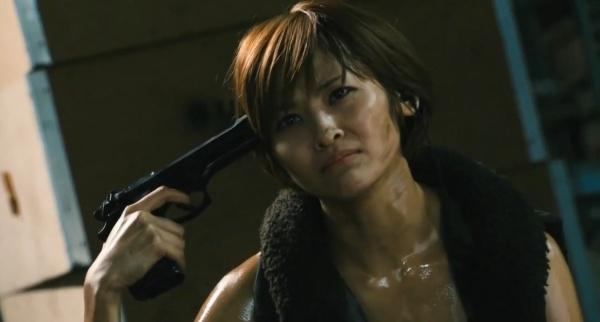Gun: (98, 117, 264, 251)
